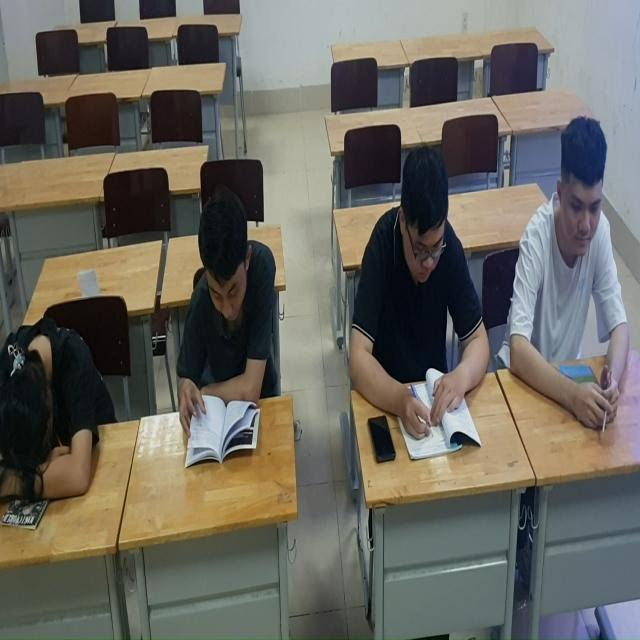read: (345, 141, 500, 475), (512, 110, 636, 437), (170, 182, 283, 470)
sleep: (1, 314, 115, 513)
